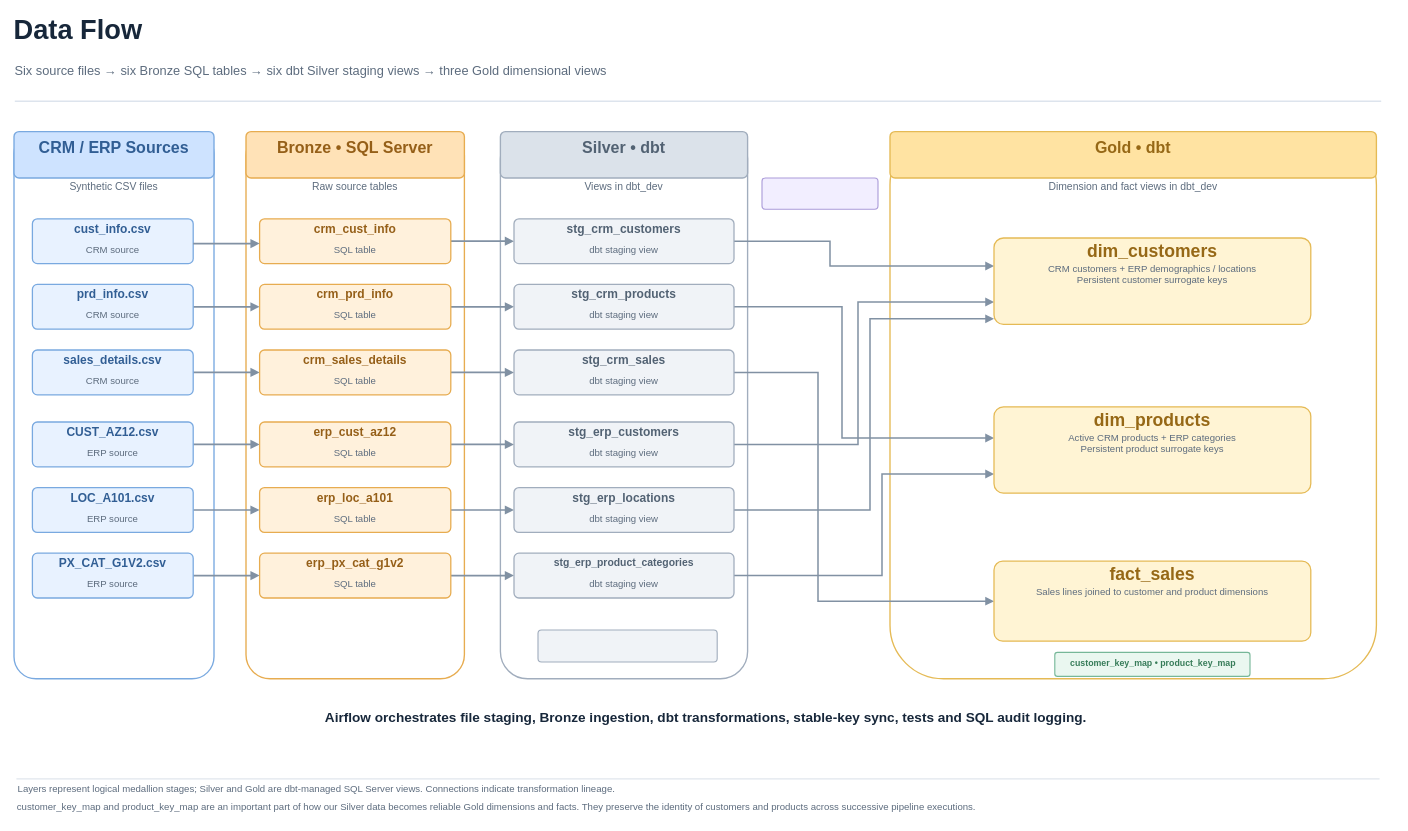
The diagram is 1408 pixels wide and 831 high, and some of its shapes have lost their labels. The centre of each missing label's shape, as x and y in pixels:
"Cleaning + standardization" goes at point (627, 645).
"source() / ref()" goes at point (819, 193).
